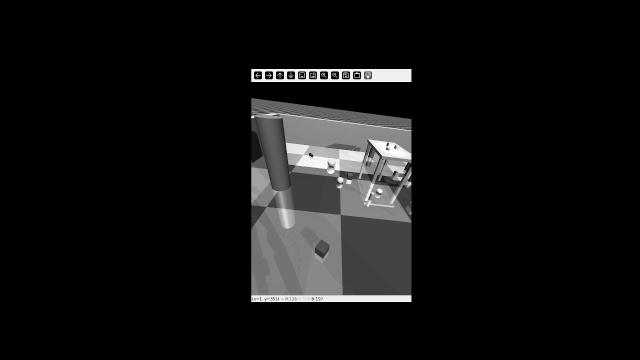cilindro: (254, 114, 294, 192), (369, 146, 375, 158), (369, 191, 375, 201), (405, 161, 411, 171), (408, 172, 412, 182), (386, 142, 389, 146)
cuadrado: (313, 238, 332, 258), (346, 171, 354, 182), (394, 142, 402, 150), (310, 154, 314, 157), (309, 151, 312, 155)
esfera: (327, 156, 338, 168), (336, 176, 344, 185), (377, 187, 383, 195), (385, 146, 390, 151)
rectangulo: (392, 169, 405, 178), (408, 200, 412, 213)
